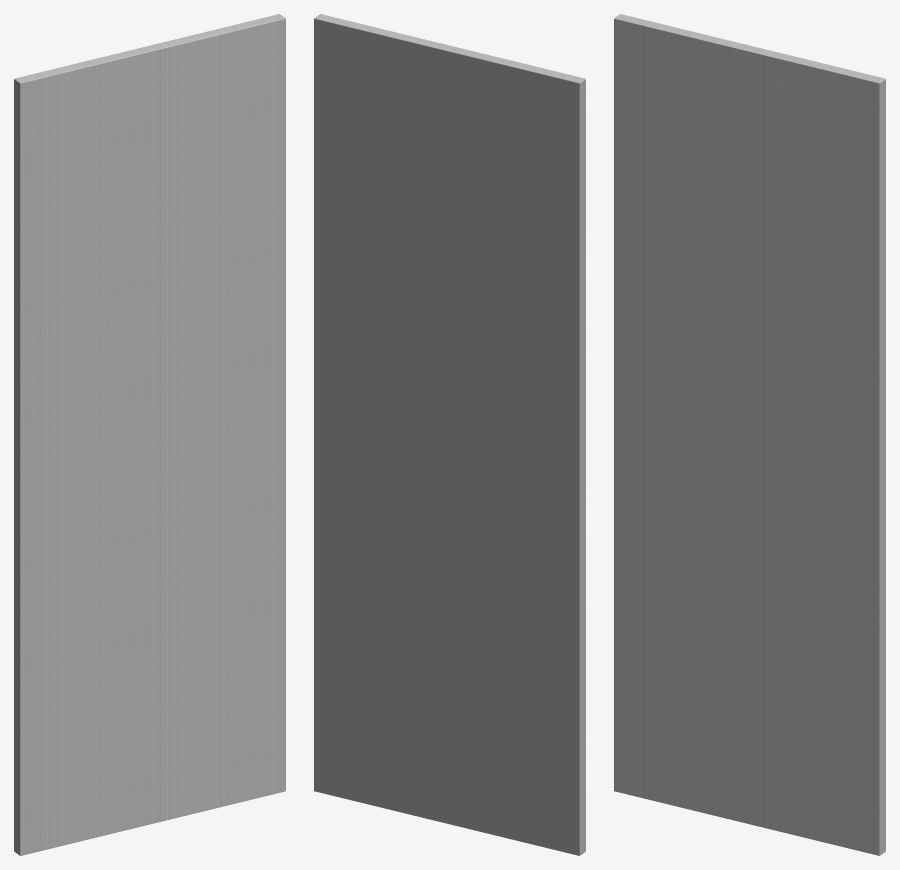
File: hall_door_panel.glb
The picture shows the model from 3 angles, left to right: view 1: azimuth 30°, elevation 25°; view 2: azimuth 150°, elevation 25°; view 3: azimuth 330°, elevation 25°; orthographic projection.
Parts seen in each view (by area): view 1: HallDoorPanel; view 2: HallDoorPanel; view 3: HallDoorPanel.
Boxes of the visible parts, x1,y1,x2,y2 form: HallDoorPanel: (14, 14, 285, 855); HallDoorPanel: (314, 14, 585, 855); HallDoorPanel: (614, 14, 885, 855).
Size of the model in its own units: 0.775 by 2.15 by 0.032.
2 materials, 1 textured.
